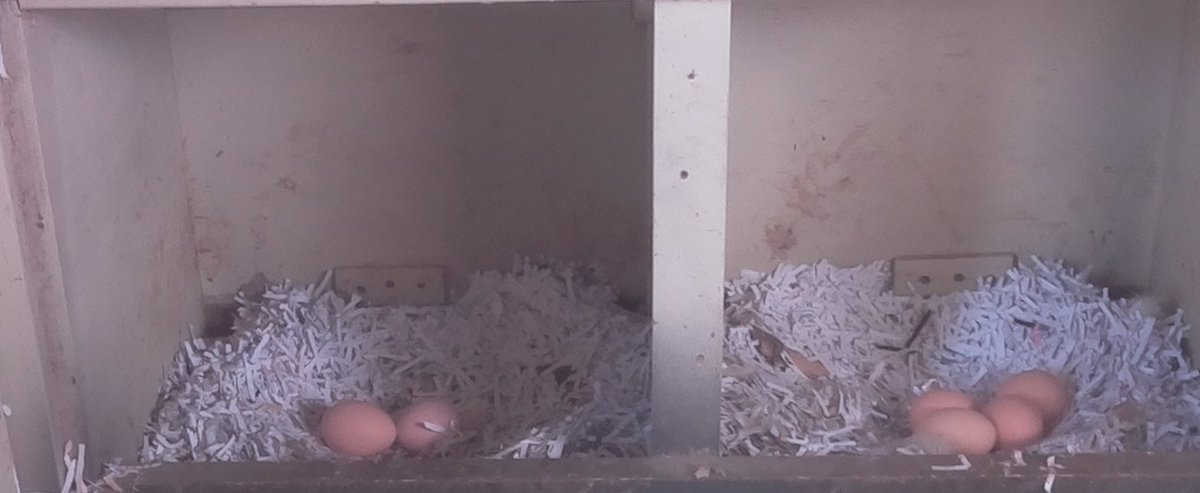egg: (316, 395, 401, 462), (913, 404, 1003, 463), (993, 365, 1078, 422), (387, 395, 465, 457), (980, 394, 1052, 449), (905, 386, 980, 426)
